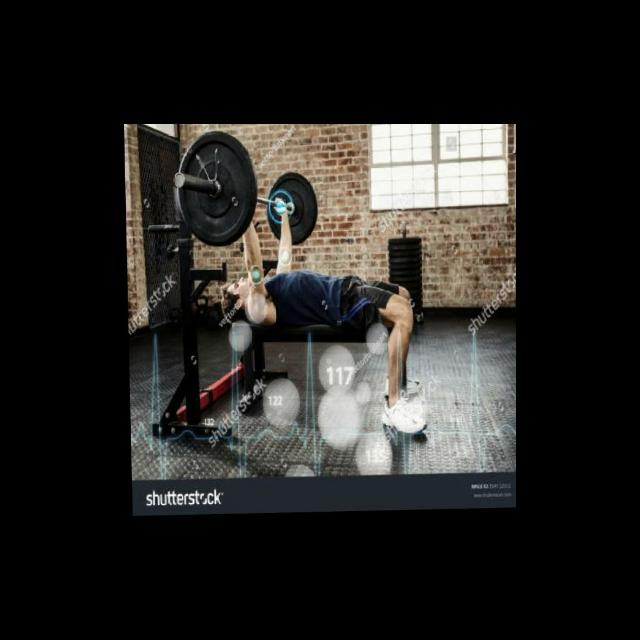barbell: (172, 132, 261, 251)
